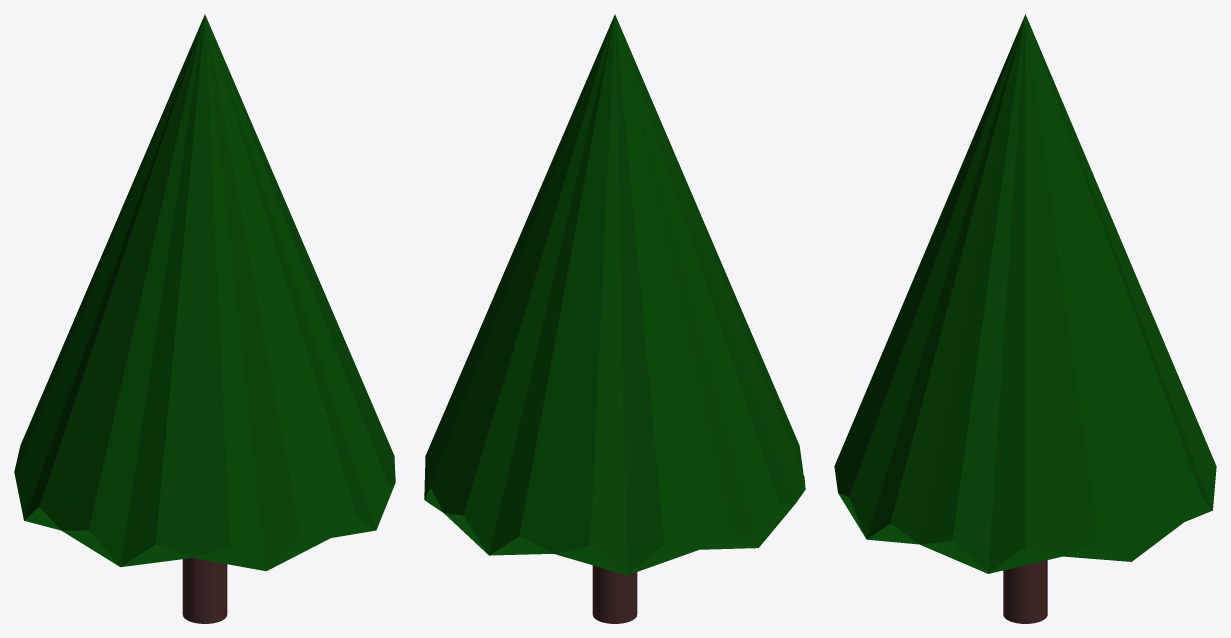
File: fir_4.glb
3 views of the same model, side by side, from view 1: azimuth 30°, elevation 25°; view 2: azimuth 150°, elevation 25°; view 3: azimuth 270°, elevation 25° (orthographic).
Parts seen in each view (by area): view 1: Cone, Cylinder; view 2: Cone, Cylinder; view 3: Cone, Cylinder.
Part boxes in pixels (x1,y1,x2,y2): Cone: (14,14,395,571); Cylinder: (182,558,227,623); Cone: (424,14,805,575); Cylinder: (592,565,637,623); Cone: (834,14,1216,573); Cylinder: (1003,560,1047,623).
Size of the model in its own units: 3 by 5.2 by 3.
